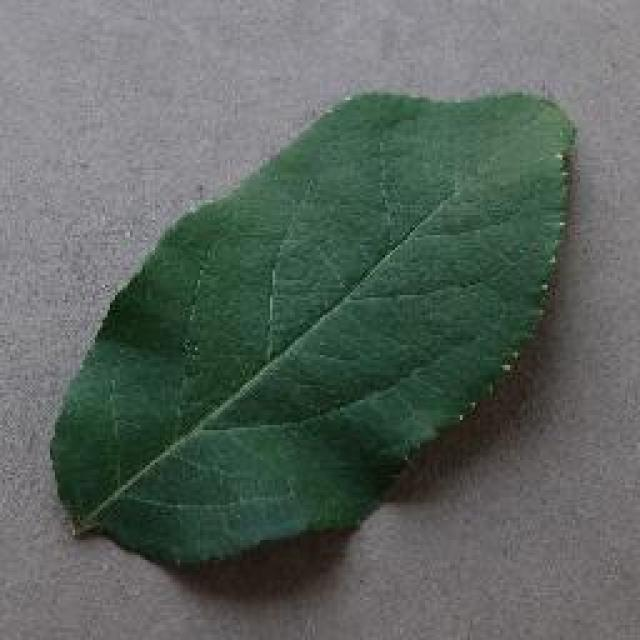Apple___healthy: (40, 73, 585, 615)
